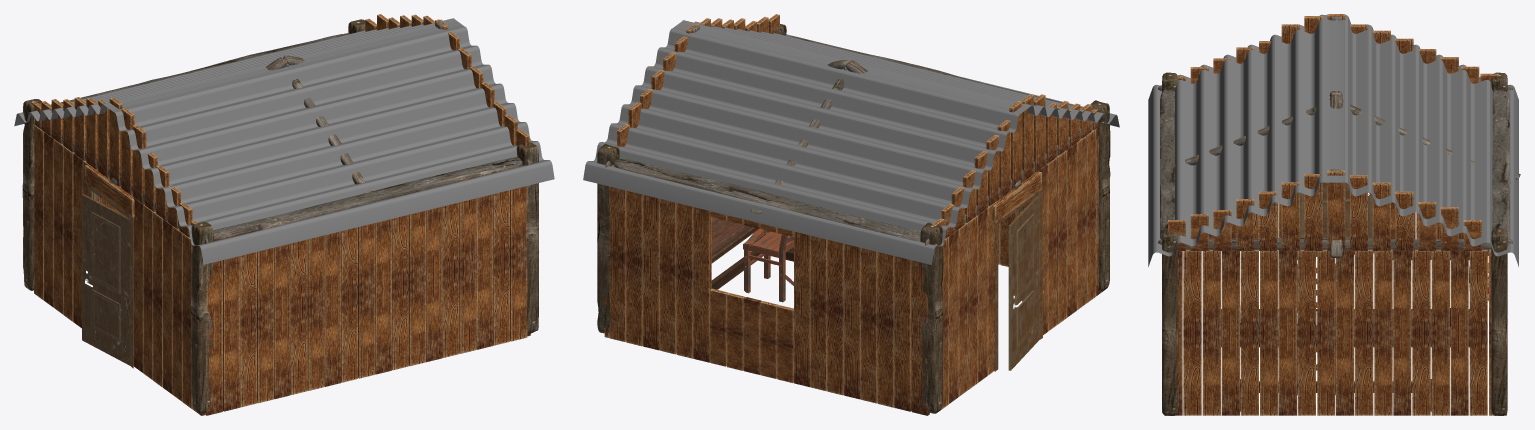
The model's file is Ultimate Hub (1).fbx.
The picture shows the model from 3 angles, left to right: view 1: azimuth 30°, elevation 25°; view 2: azimuth 150°, elevation 25°; view 3: azimuth 270°, elevation 25°; orthographic projection. The views are drawn at different scales.
Parts seen in each view (by area): view 1: Plane.001, crate wooden box, medium plank LP_medium plank_0.009, tall plank LP_tell plank_0.003, woodPlankL1_WoodPack_0.008, woodPlankL3_WoodPack_0.010, woodPlankL3_WoodPack_0.009, woodPlankL1_WoodPack_0.006, woodPlankL1_WoodPack_0.011, woodPlankL2_WoodPack_0.007, woodPlankL3_WoodPack_0.008, woodPlankL3_WoodPack_0.007 (+35 smaller); view 2: Plane.001, crate wooden box, medium plank LP_medium plank_0.008, tall plank LP_tell plank_0.002, woodPlankL1, woodPlankL2_WoodPack_0.004, woodPlankL2, woodPlankL3, woodPlankL3_WoodPack_0.001, woodPlankL3_WoodPack_0.004, woodPlankL1_WoodPack_0.004, woodPlankL3_WoodPack_0.005 (+38 smaller); view 3: Plane.001, woodPlankL2_WoodPack_0.017, woodPlankL1_WoodPack_0.013, woodPlankL1_WoodPack_0.017, woodPlankL2_WoodPack_0.012, woodPlankL2_WoodPack_0.013, woodPlankL2_WoodPack_0.015, woodPlankL2_WoodPack_0.016, woodPlankL3_WoodPack_0.016, woodPlankL2_WoodPack_0.014, woodPlankL3_WoodPack_0.012, woodPlankL1_WoodPack_0.014 (+29 smaller).
Boxes of the visible parts, bbox=[...] form: Plane.001: bbox=[14, 18, 554, 264]; crate wooden box: bbox=[82, 185, 133, 368]; medium plank LP_medium plank_0.009: bbox=[213, 157, 522, 241]; tall plank LP_tell plank_0.003: bbox=[191, 222, 213, 413]; woodPlankL1_WoodPack_0.008: bbox=[324, 231, 341, 386]; woodPlankL3_WoodPack_0.010: bbox=[459, 198, 476, 353]; woodPlankL3_WoodPack_0.009: bbox=[408, 210, 425, 366]; woodPlankL1_WoodPack_0.006: bbox=[223, 256, 240, 411]; woodPlankL1_WoodPack_0.011: bbox=[476, 194, 493, 349]; woodPlankL2_WoodPack_0.007: bbox=[290, 239, 307, 394]; woodPlankL3_WoodPack_0.008: bbox=[358, 223, 375, 378]; woodPlankL3_WoodPack_0.007: bbox=[307, 235, 324, 390]; Plane.001: bbox=[583, 20, 1119, 264]; crate wooden box: bbox=[994, 188, 1042, 371]; medium plank LP_medium plank_0.008: bbox=[614, 159, 920, 241]; tall plank LP_tell plank_0.002: bbox=[920, 222, 943, 413]; woodPlankL1: bbox=[894, 256, 911, 411]; woodPlankL2_WoodPack_0.004: bbox=[676, 203, 693, 358]; woodPlankL2: bbox=[877, 252, 894, 407]; woodPlankL3: bbox=[860, 248, 877, 403]; woodPlankL3_WoodPack_0.001: bbox=[810, 235, 827, 391]; woodPlankL3_WoodPack_0.004: bbox=[659, 199, 676, 354]; woodPlankL1_WoodPack_0.004: bbox=[693, 207, 711, 362]; woodPlankL3_WoodPack_0.005: bbox=[609, 186, 626, 341]; Plane.001: bbox=[1148, 14, 1518, 266]; woodPlankL2_WoodPack_0.017: bbox=[1469, 249, 1487, 415]; woodPlankL1_WoodPack_0.013: bbox=[1221, 249, 1239, 415]; woodPlankL1_WoodPack_0.017: bbox=[1450, 249, 1468, 415]; woodPlankL2_WoodPack_0.012: bbox=[1183, 249, 1201, 415]; woodPlankL2_WoodPack_0.013: bbox=[1240, 249, 1258, 415]; woodPlankL2_WoodPack_0.015: bbox=[1355, 249, 1373, 415]; woodPlankL2_WoodPack_0.016: bbox=[1412, 249, 1430, 415]; woodPlankL3_WoodPack_0.016: bbox=[1431, 249, 1449, 415]; woodPlankL2_WoodPack_0.014: bbox=[1297, 249, 1315, 415]; woodPlankL3_WoodPack_0.012: bbox=[1202, 249, 1220, 415]; woodPlankL1_WoodPack_0.014: bbox=[1278, 249, 1296, 415].
Size of the model in its own units: 892 by 612 by 818.
Materials: 36 (12 with a texture image).
